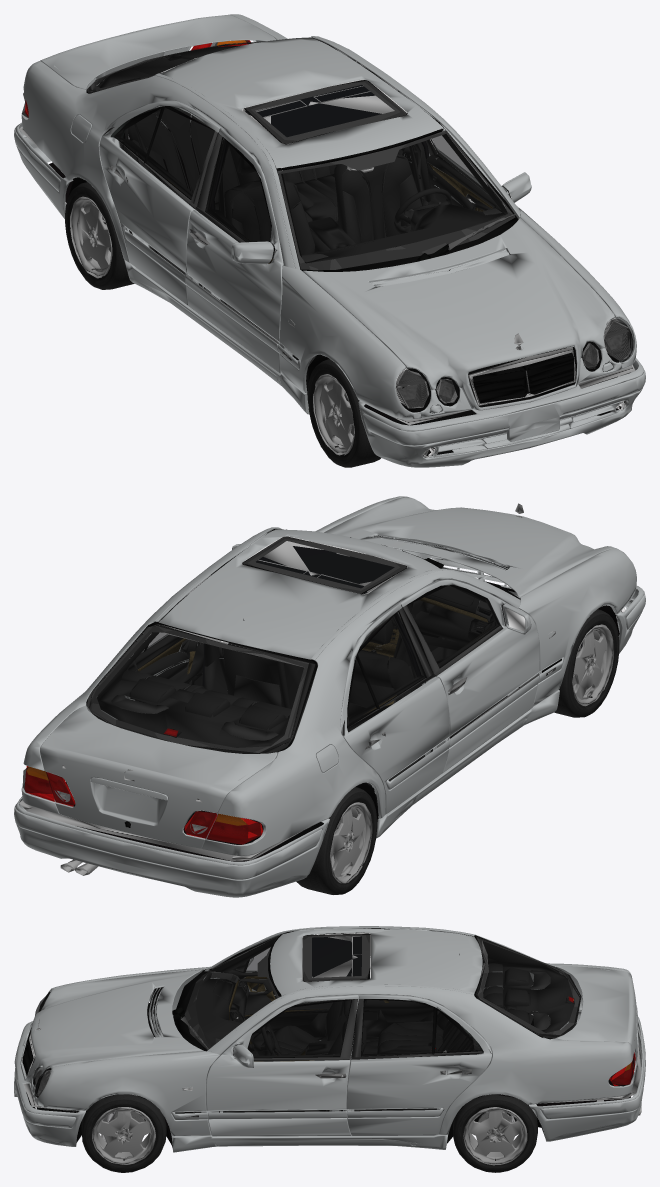
The model's file is car-mercedes-lite.glb.
The picture shows the model from 3 angles, top to bottom: view 1: azimuth 30°, elevation 25°; view 2: azimuth 150°, elevation 25°; view 3: azimuth 270°, elevation 25°; orthographic projection. The views are drawn at different scales.
Visible parts, largest first — view 1: e50:SK_Door_BL_101_001_SK_Door_BL_101_MI_Glass3_e50:MI_12410, e50:SM_Body_101_SM_Body_101_MI_Exhaust_009_e50:MI_Glass1_0, e50:SK_Hood_101_001_SK_Hood_101_MI_Exhaust_006_e50:MI_Exhaus, e50:SK_Body_Bones_101_001_SK_Body_Bones_101_MI_Exhaust5_e50:, e50:SK_Door_BL_101_001_SK_Door_BL_101_MI_Glass6_e50:MI_Cabin, WHEEL__e50AniDiscScaleBR6__e50:Ani_Disc_Scale_BR6_e50:MI_Cha (×2), e50:SK_Body_Bones_101_001_SK_Body_Bones_101_MI_Exhaust4_e50:, e50:SK_Trunk_101_001_SK_Trunk_101_MI_Glass_Light_e50:MI_Glas, e50:SK_Body_Bones_101_001_SK_Body_Bones_101_MI_Exhaust1_e50:, e50:SK_Trunk_101_001_SK_Trunk_101_MI_Glass_Light4_e50:MI_Lig, e50:SK_Body_Bones_101_001_SK_Body_Bones_101_MI_Exhaust2_e50: (×2), e50:SM_Body_101_SM_Body_101_MI_Exhaust_023_e50:MI_Cabin_Clot (+3 smaller); view 2: e50:SK_Door_BL_101_001_SK_Door_BL_101_MI_Glass3_e50:MI_12410, e50:SM_Body_101_SM_Body_101_MI_Exhaust_009_e50:MI_Glass1_0, e50:SK_Hood_101_001_SK_Hood_101_MI_Exhaust_006_e50:MI_Exhaus, e50:SK_Body_Bones_101_001_SK_Body_Bones_101_MI_Exhaust5_e50:, e50:SK_Door_BL_101_001_SK_Door_BL_101_MI_Glass7_e50:MI_Cabin, WHEEL__e50AniDiscScaleBR6__e50:Ani_Disc_Scale_BR6_e50:MI_Cha (×2), e50:SK_Body_Bones_101_001_SK_Body_Bones_101_MI_Exhaust4_e50:, e50:SK_Body_Bones_101_001_SK_Body_Bones_101_MI_Exhaust1_e50:, e50:SK_Trunk_101_001_SK_Trunk_101_MI_Glass_Light4_e50:MI_Lig, e50:SK_Door_BL_101_001_SK_Door_BL_101_MI_Glass6_e50:MI_Cabin, e50:SM_Body_101_SM_Body_101_MI_Exhaust_023_e50:MI_Cabin_Clot, e50:SK_Trunk_101_001_SK_Trunk_101_MI_Glass_Light_e50:MI_Glas (+4 smaller); view 3: e50:SK_Door_BL_101_001_SK_Door_BL_101_MI_Glass3_e50:MI_12410, e50:SM_Body_101_SM_Body_101_MI_Exhaust_009_e50:MI_Glass1_0, e50:SK_Hood_101_001_SK_Hood_101_MI_Exhaust_006_e50:MI_Exhaus, e50:SK_Door_BL_101_001_SK_Door_BL_101_MI_Glass6_e50:MI_Cabin, e50:SK_Body_Bones_101_001_SK_Body_Bones_101_MI_Exhaust5_e50:, e50:SK_Door_BL_101_001_SK_Door_BL_101_MI_Glass7_e50:MI_Cabin, WHEEL__e50AniWheelBL67__e50:Ani_Wheel_BL67_e50:MI_ChangeA_Ri, WHEEL__e50AniWheelFL66__e50:Ani_Wheel_FL66_e50:MI_ChangeA_Ri, e50:SK_Body_Bones_101_001_SK_Body_Bones_101_MI_Exhaust4_e50:, e50:SK_Body_Bones_101_001_SK_Body_Bones_101_MI_Exhaust1_e50:, WHEEL__e50AniWheelFL66__e50:Ani_Wheel_FL66_e50:MI_ChangeA_Ty, WHEEL__e50AniWheelBL67__e50:Ani_Wheel_BL67_e50:MI_ChangeA_Ty (+6 smaller).
Boxes of the visible parts, x1,y1,x2,y2 form: e50:SK_Door_BL_101_001_SK_Door_BL_101_MI_Glass3_e50:MI_12410: (14,14,645,467); e50:SM_Body_101_SM_Body_101_MI_Exhaust_009_e50:MI_Glass1_0: (97,41,514,269); e50:SK_Hood_101_001_SK_Hood_101_MI_Exhaust_006_e50:MI_Exhaus: (19,37,635,457); e50:SK_Body_Bones_101_001_SK_Body_Bones_101_MI_Exhaust5_e50:: (128,109,440,252); e50:SK_Door_BL_101_001_SK_Door_BL_101_MI_Glass6_e50:MI_Cabin: (119,131,509,304); WHEEL__e50AniDiscScaleBR6__e50:Ani_Disc_Scale_BR6_e50:MI_Cha (×2): (65,182,134,289); e50:SK_Body_Bones_101_001_SK_Body_Bones_101_MI_Exhaust4_e50:: (97,43,507,261); e50:SK_Trunk_101_001_SK_Trunk_101_MI_Glass_Light_e50:MI_Glas: (21,40,633,411); e50:SK_Body_Bones_101_001_SK_Body_Bones_101_MI_Exhaust1_e50:: (306,202,505,263); e50:SK_Trunk_101_001_SK_Trunk_101_MI_Glass_Light4_e50:MI_Lig: (24,40,629,457); e50:SK_Body_Bones_101_001_SK_Body_Bones_101_MI_Exhaust2_e50: (×2): (145,112,466,252); e50:SM_Body_101_SM_Body_101_MI_Exhaust_023_e50:MI_Cabin_Clot: (125,58,507,263); e50:SK_Door_BL_101_001_SK_Door_BL_101_MI_Glass3_e50:MI_12410: (14,496,645,897); e50:SM_Body_101_SM_Body_101_MI_Exhaust_009_e50:MI_Glass1_0: (90,537,498,753); e50:SK_Hood_101_001_SK_Hood_101_MI_Exhaust_006_e50:MI_Exhaus: (19,503,636,875); e50:SK_Body_Bones_101_001_SK_Body_Bones_101_MI_Exhaust5_e50:: (121,618,413,783); e50:SK_Door_BL_101_001_SK_Door_BL_101_MI_Glass7_e50:MI_Cabin: (97,636,503,780); WHEEL__e50AniDiscScaleBR6__e50:Ani_Disc_Scale_BR6_e50:MI_Cha (×2): (296,787,377,894); e50:SK_Body_Bones_101_001_SK_Body_Bones_101_MI_Exhaust4_e50:: (145,546,507,752); e50:SK_Body_Bones_101_001_SK_Body_Bones_101_MI_Exhaust1_e50:: (234,586,492,718); e50:SK_Trunk_101_001_SK_Trunk_101_MI_Glass_Light4_e50:MI_Lig: (24,608,625,844); e50:SK_Door_BL_101_001_SK_Door_BL_101_MI_Glass6_e50:MI_Cabin: (128,612,506,758); e50:SM_Body_101_SM_Body_101_MI_Exhaust_023_e50:MI_Cabin_Clot: (97,536,465,786); e50:SK_Trunk_101_001_SK_Trunk_101_MI_Glass_Light_e50:MI_Glas: (22,766,261,844); e50:SK_Door_BL_101_001_SK_Door_BL_101_MI_Glass3_e50:MI_12410: (14,926,645,1152); e50:SM_Body_101_SM_Body_101_MI_Exhaust_009_e50:MI_Glass1_0: (185,933,578,1057); e50:SK_Hood_101_001_SK_Hood_101_MI_Exhaust_006_e50:MI_Exhaus: (21,928,641,1147); e50:SK_Door_BL_101_001_SK_Door_BL_101_MI_Glass6_e50:MI_Cabin: (223,970,479,1112); e50:SK_Body_Bones_101_001_SK_Body_Bones_101_MI_Exhaust5_e50:: (252,963,530,1111); e50:SK_Door_BL_101_001_SK_Door_BL_101_MI_Glass7_e50:MI_Cabin: (193,965,574,1113); WHEEL__e50AniWheelBL67__e50:Ani_Wheel_BL67_e50:MI_ChangeA_Ri: (463,1107,527,1165); WHEEL__e50AniWheelFL66__e50:Ani_Wheel_FL66_e50:MI_ChangeA_Ri: (92,1107,155,1164); e50:SK_Body_Bones_101_001_SK_Body_Bones_101_MI_Exhaust4_e50:: (211,932,574,1109); e50:SK_Body_Bones_101_001_SK_Body_Bones_101_MI_Exhaust1_e50:: (195,972,275,1052); WHEEL__e50AniWheelFL66__e50:Ani_Wheel_FL66_e50:MI_ChangeA_Ty: (81,1094,166,1172); WHEEL__e50AniWheelBL67__e50:Ani_Wheel_BL67_e50:MI_ChangeA_Ty: (453,1094,537,1172).
Size of the model in its own units: 0.0199 by 0.0145 by 0.0479.
26 materials, 20 textured.
